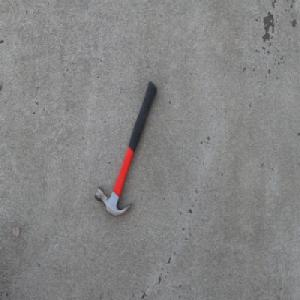Hammer: (94, 80, 157, 218)
